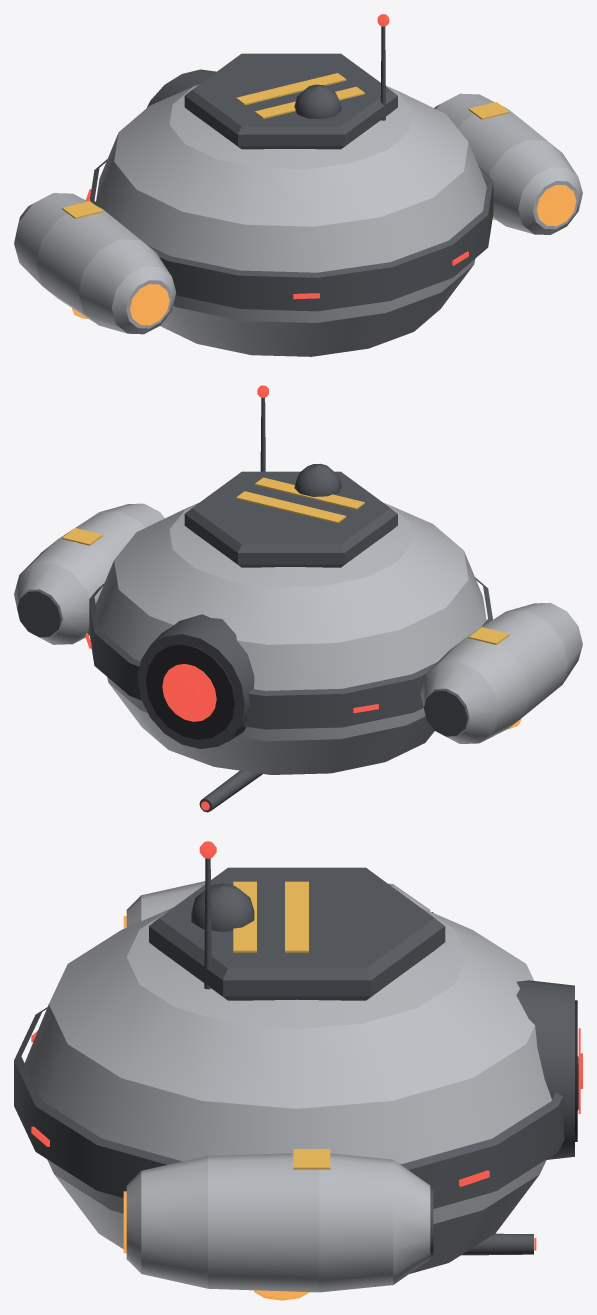
Rendered from drone.glb.
3 renders of one model, top to bottom at view 1: azimuth 30°, elevation 25°; view 2: azimuth 150°, elevation 25°; view 3: azimuth 270°, elevation 25°, orthographic. The views are drawn at different scales.
Parts seen in each view (by area): view 1: body, pod_l, pod_r, antenna; view 2: body, pod_l, pod_r, eye; view 3: body, pod_r, pod_l, antenna.
Part boxes in pixels (x1=…): body: x1=86, y1=53, x2=493, y2=356; pod_l: x1=14, y1=193, x2=176, y2=334; pod_r: x1=434, y1=93, x2=582, y2=234; antenna: x1=377, y1=14, x2=389, y2=120; body: x1=85, y1=463, x2=492, y2=812; pod_l: x1=420, y1=602, x2=582, y2=743; pod_r: x1=14, y1=503, x2=164, y2=644; eye: x1=162, y1=664, x2=216, y2=721; body: x1=14, y1=867, x2=578, y2=1273; pod_r: x1=123, y1=1149, x2=433, y2=1300; pod_l: x1=123, y1=881, x2=433, y2=928; antenna: x1=199, y1=841, x2=216, y2=989.
Bounding box in the file's own units: 1.07 × 0.677 × 0.768.
